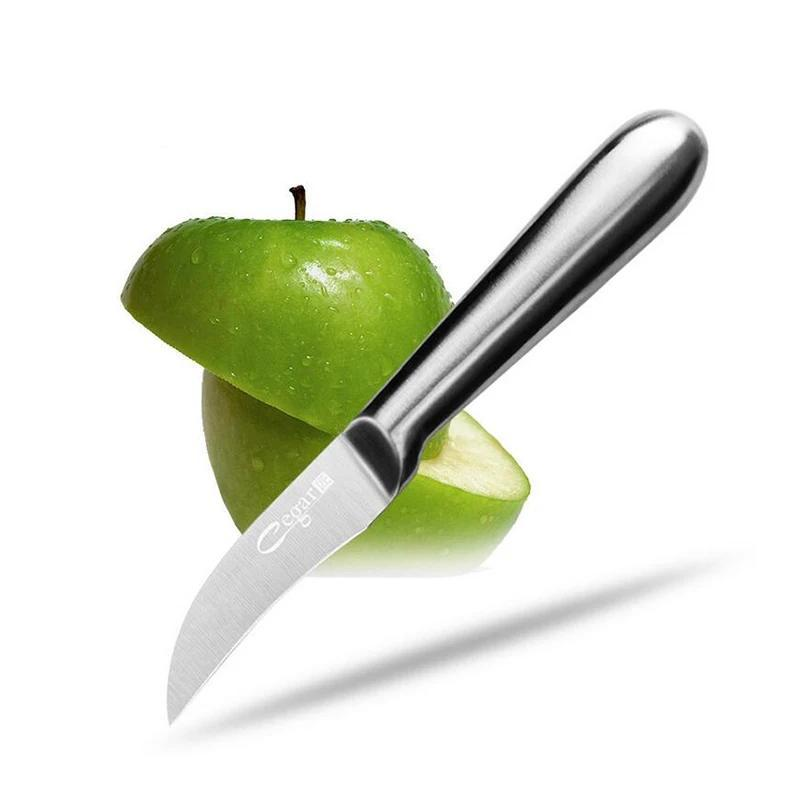faca: (167, 112, 707, 724)
